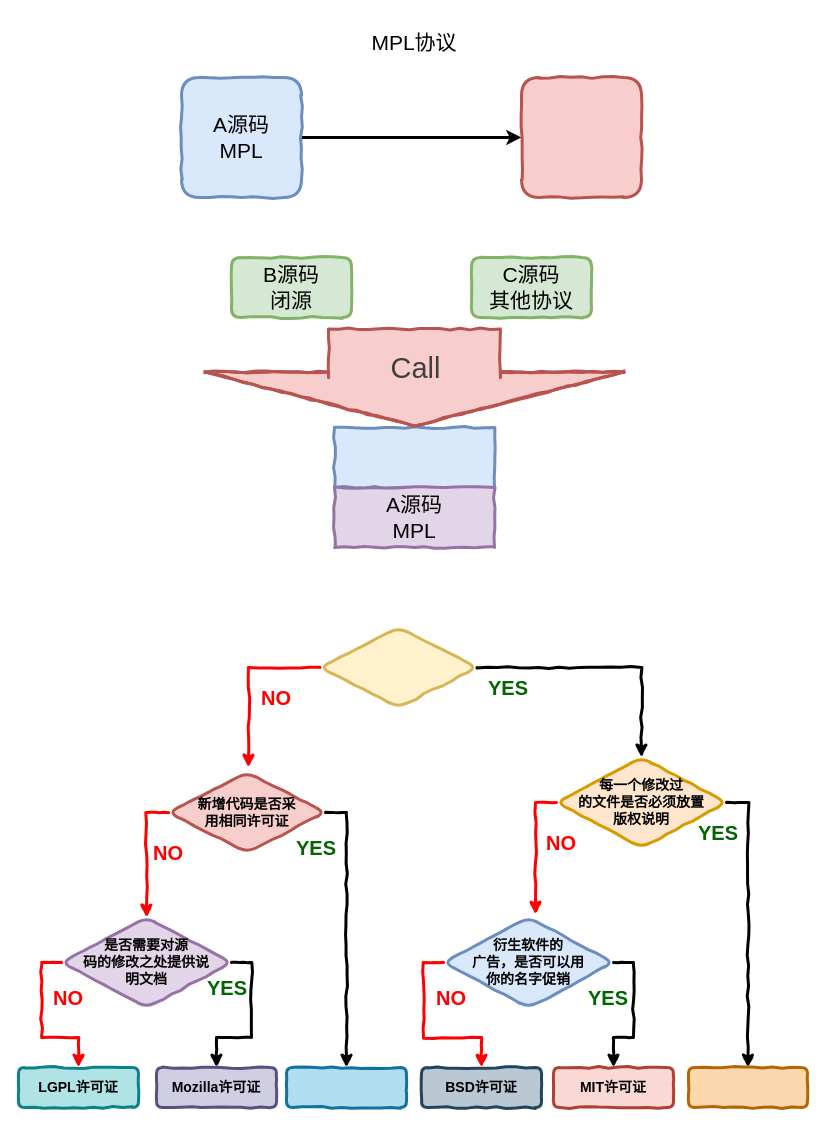
This 826x1126 diagram has some shape labels left out. The shapes that lost their labels are listed below. From the top down, each one's centre as x and y in pixels, then its label:
pixel 581 137: A+源码 MPL
pixel 414 457: A+接口程序 MPL
pixel 398 667: 他人修改源码后， 是否可以闭源
pixel 346 1087: GPL许可证
pixel 747 1087: Apache许可证
